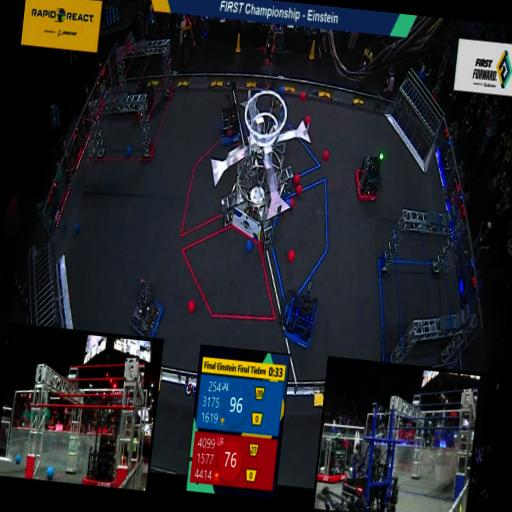robot: (319, 445, 403, 512), (280, 286, 321, 348), (84, 426, 124, 488), (126, 282, 166, 340), (352, 153, 388, 207), (316, 434, 350, 484), (215, 100, 246, 147), (132, 76, 162, 118)
